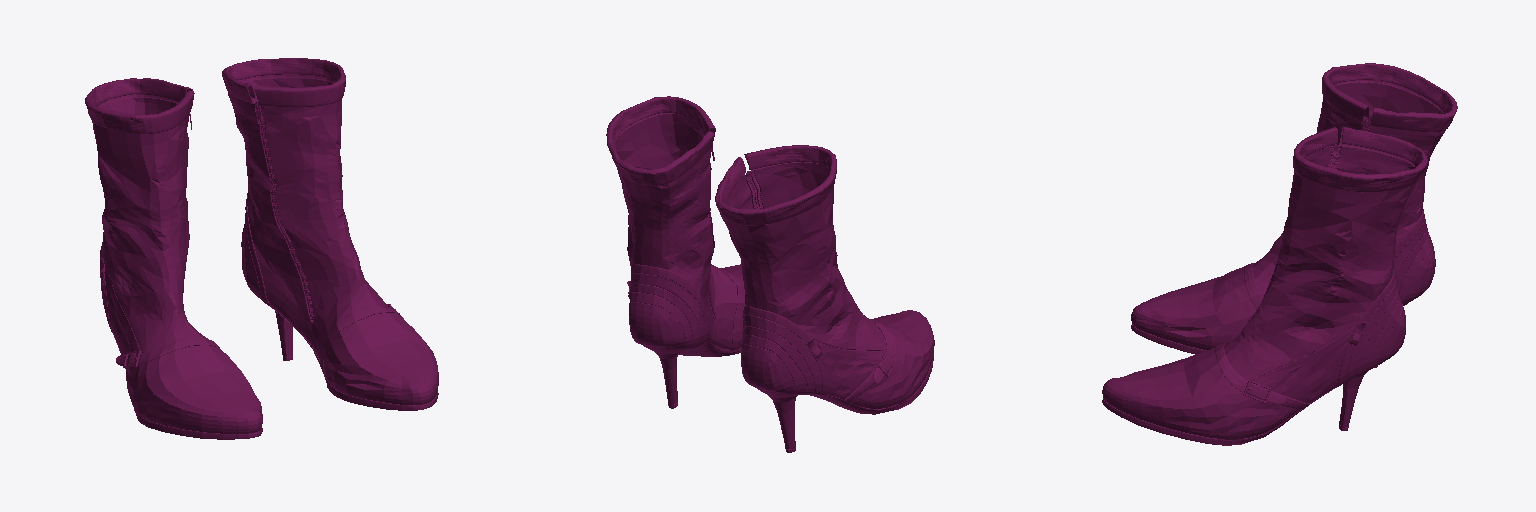
The model's file is gaotong2.obj.
3 views of the same model, side by side, from view 1: azimuth 30°, elevation 25°; view 2: azimuth 150°, elevation 25°; view 3: azimuth 270°, elevation 25° (orthographic).
Parts seen in each view (by area): view 1: file.001; view 2: file.001; view 3: file.001.
Boxes of the visible parts, <box> form: file.001: <box>85,58,438,439</box>; file.001: <box>606,96,934,452</box>; file.001: <box>1102,63,1457,445</box>.
Size of the model in its own units: 3.4 by 3.58 by 3.98.